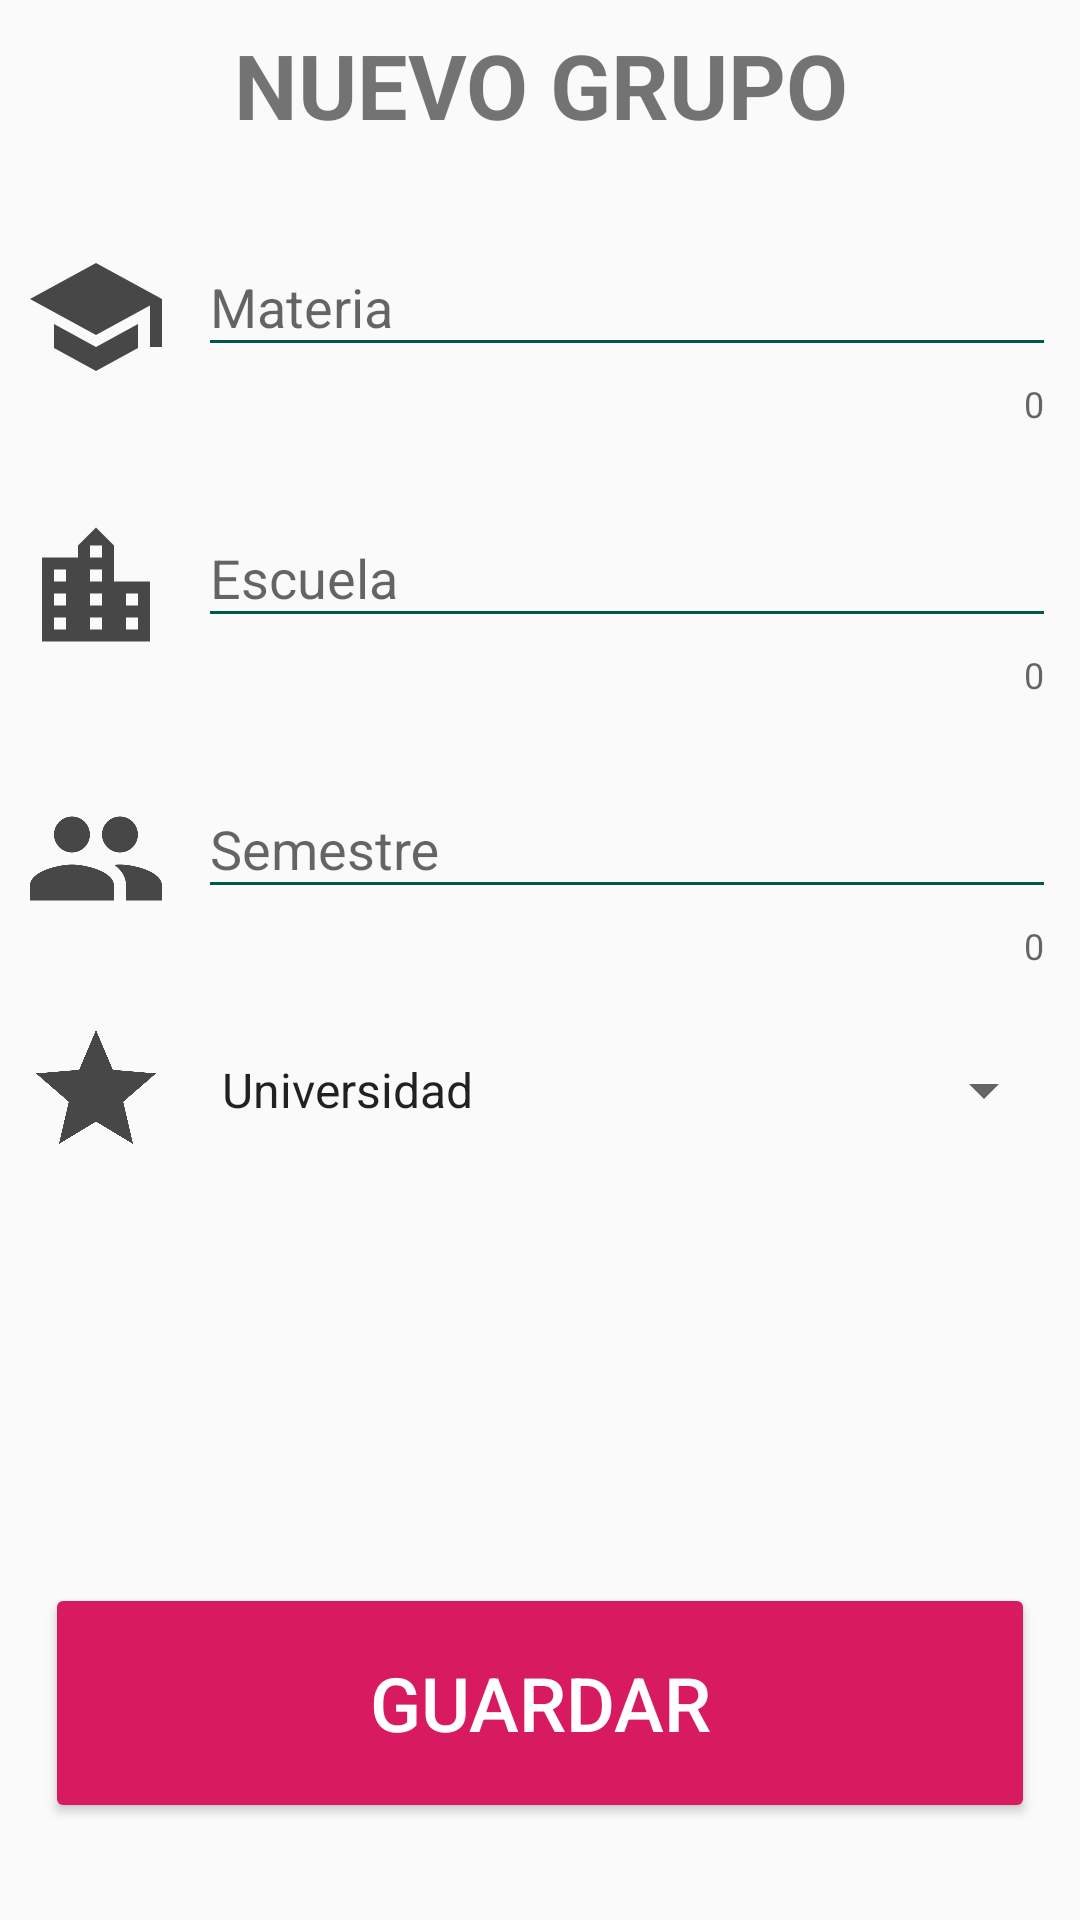

Screen size 1080px x 1920px. Icon name, then its box in pixels as detection(x1, y1, x2, y2):
birrete: detection(30, 263, 162, 371)
estrella: detection(36, 1031, 156, 1144)
grupo: detection(30, 816, 162, 901)
universidad: detection(42, 528, 150, 642)
